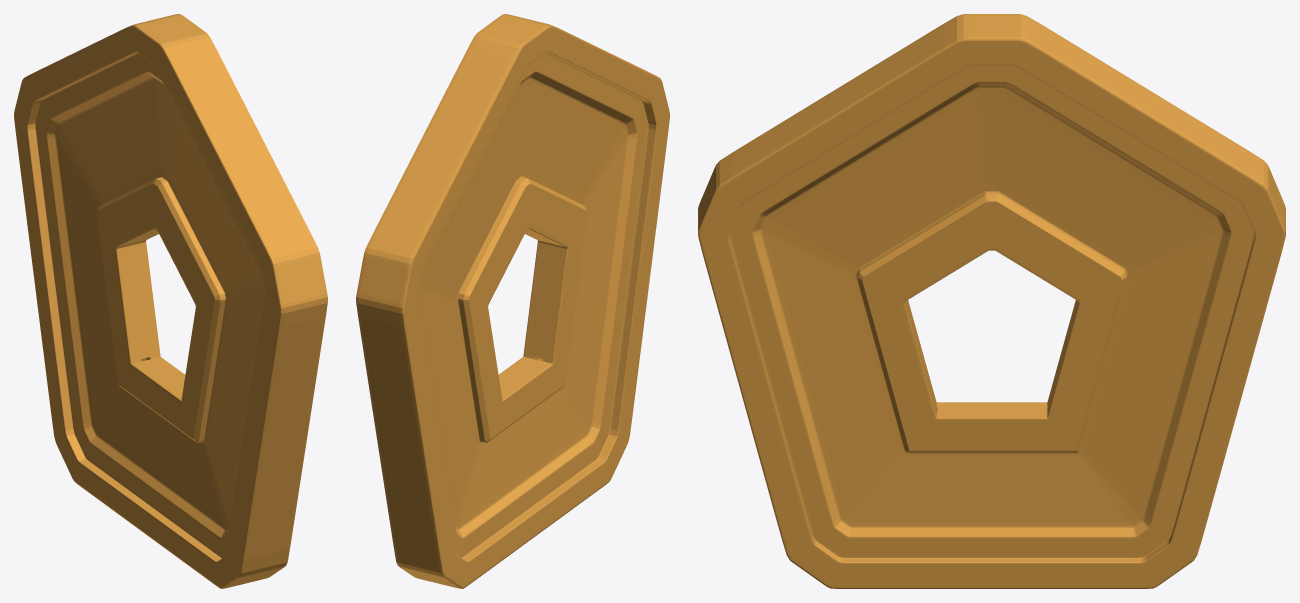
File: Coin.fbx
3 renders of one model, left to right at view 1: azimuth 30°, elevation 25°; view 2: azimuth 150°, elevation 25°; view 3: azimuth 270°, elevation 25°, orthographic. The views are drawn at different scales.
Parts seen in each view (by area): view 1: Cube; view 2: Cube; view 3: Cube.
Part boxes in pixels (x1,y1,x2,y2): Cube: [14, 14, 327, 588]; Cube: [356, 14, 669, 588]; Cube: [698, 14, 1285, 588].
Bounding box in the file's own units: 20 × 200 × 194.
